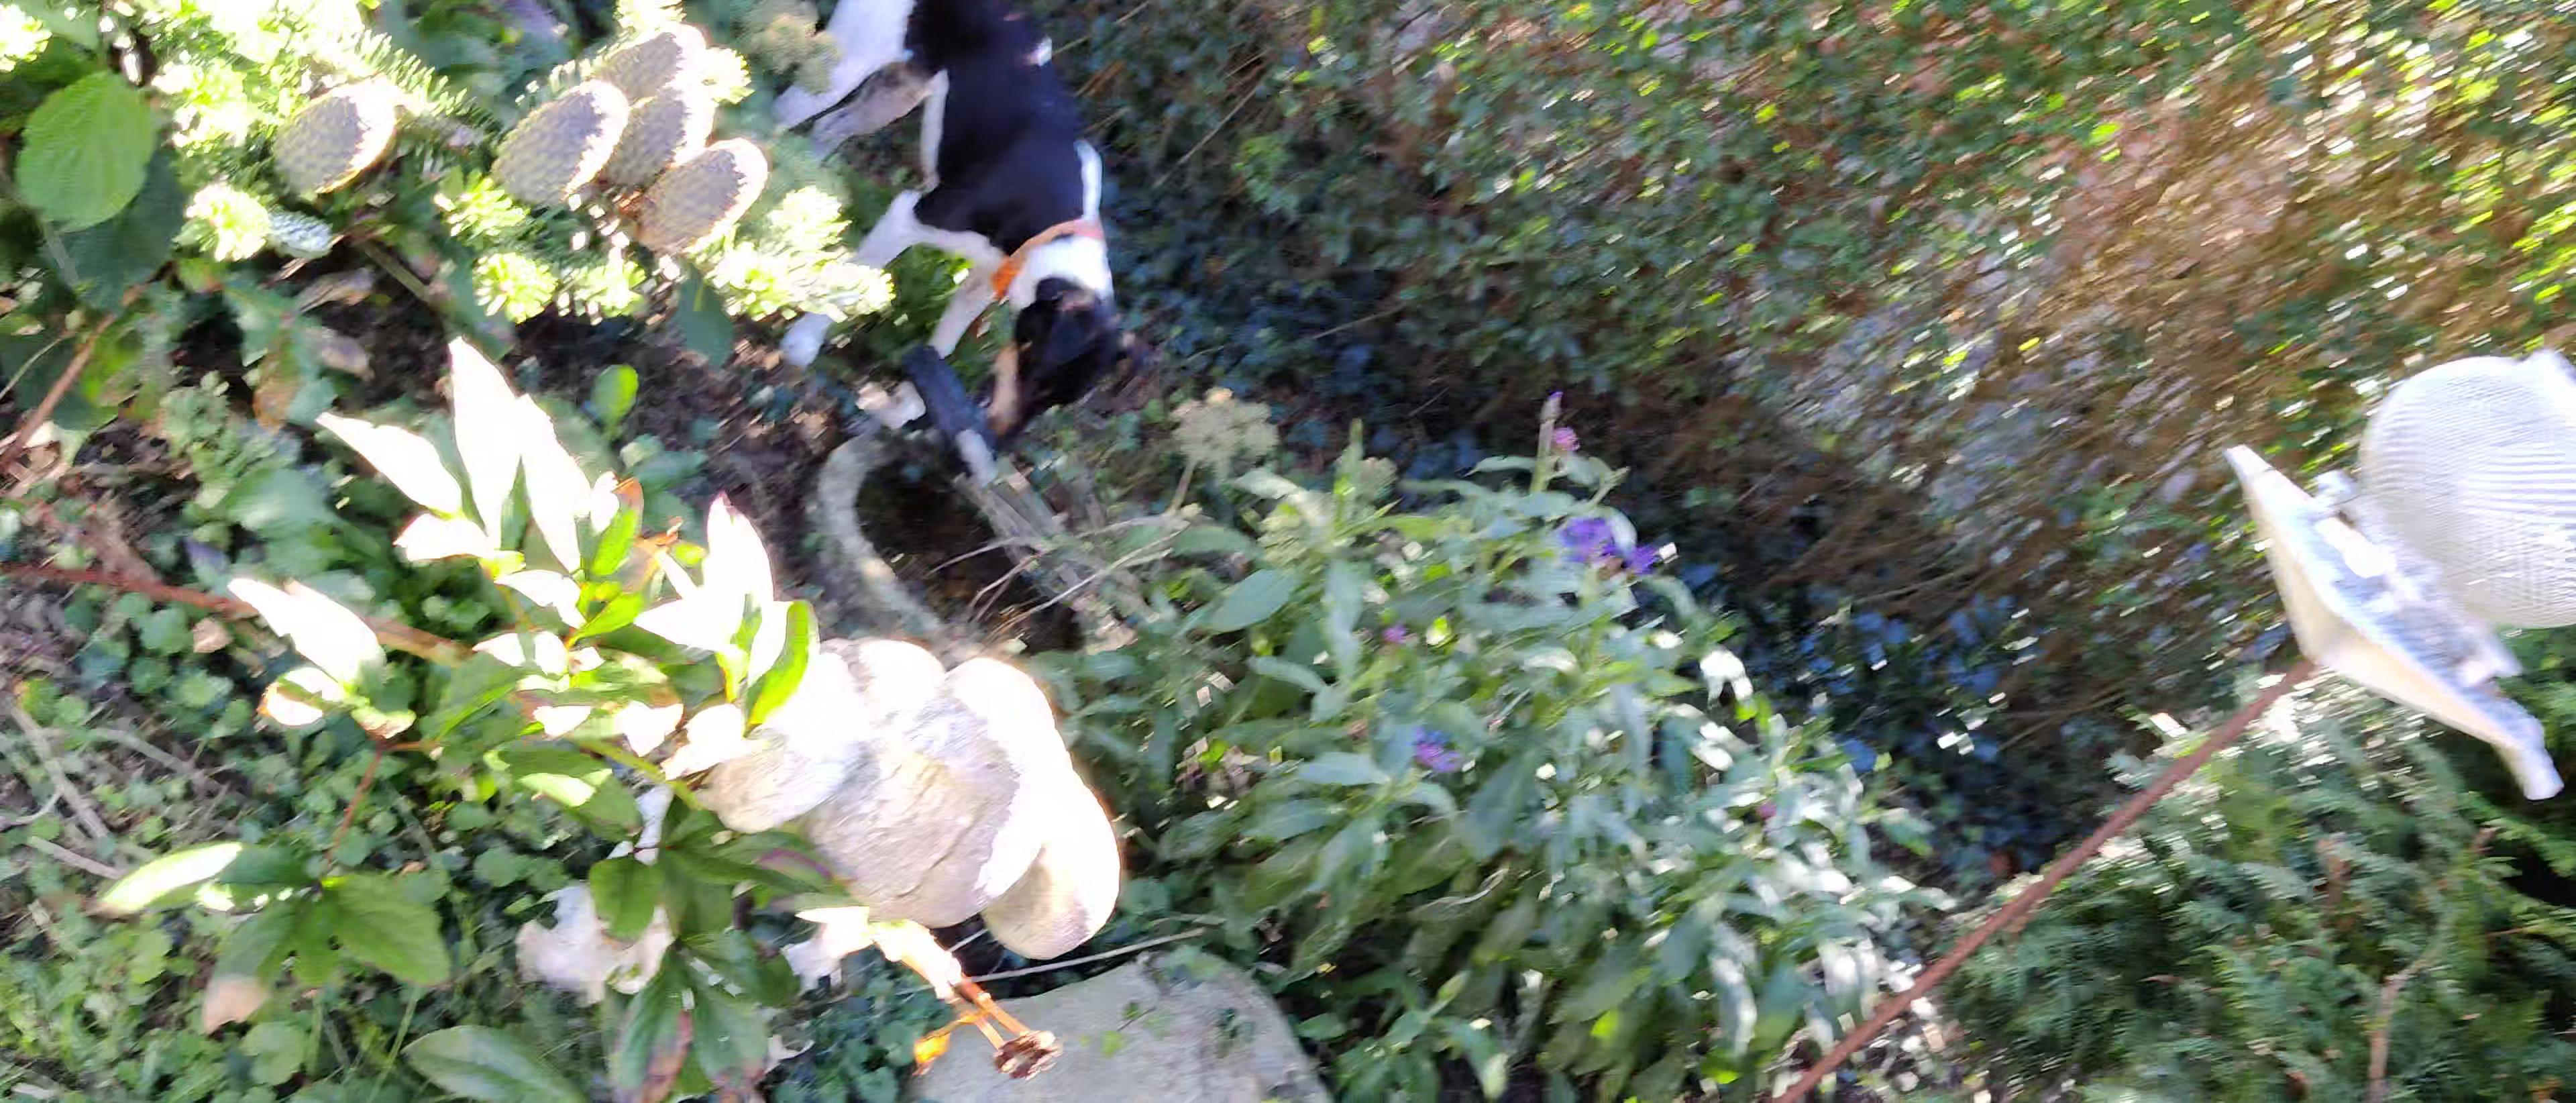Dog: (767, 0, 1153, 452)
